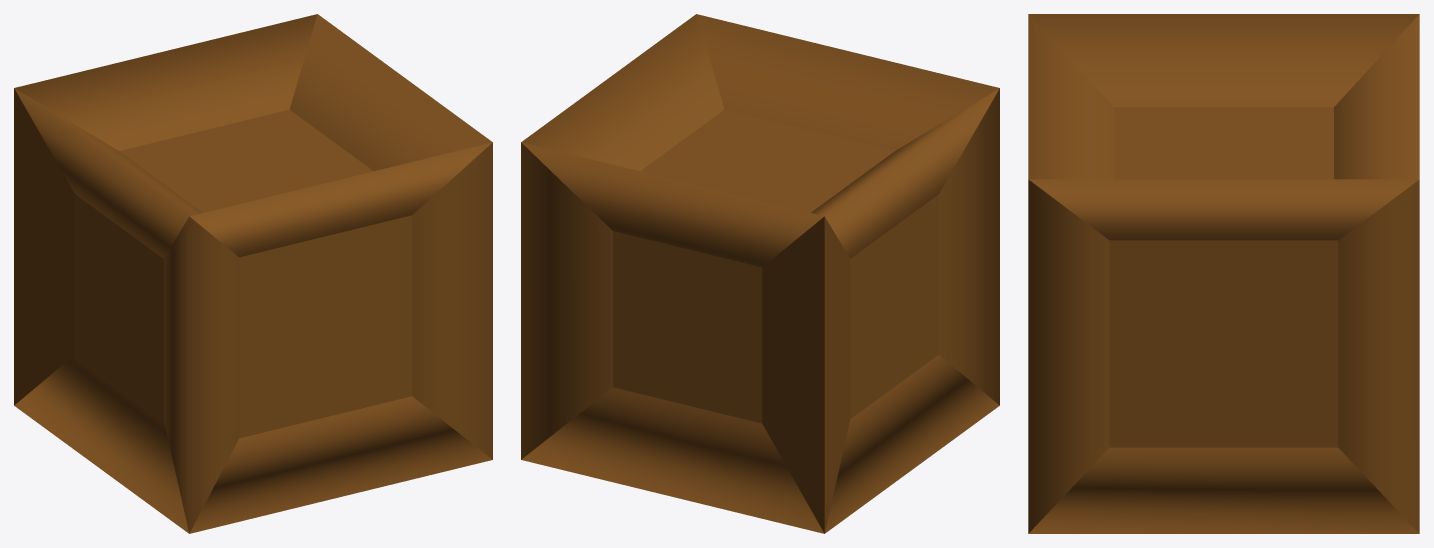
The model's file is Obstacle.dae.
3 renders of one model, left to right at view 1: azimuth 30°, elevation 25°; view 2: azimuth 150°, elevation 25°; view 3: azimuth 270°, elevation 25°, orthographic. The views are drawn at different scales.
Visible parts, largest first — view 1: pCube118; view 2: pCube118; view 3: pCube118.
Boxes of the visible parts, x1,y1,x2,y2 form: pCube118: [14, 14, 492, 533]; pCube118: [521, 14, 999, 533]; pCube118: [1028, 14, 1419, 533].
Bounding box in the file's own units: 1.81 × 1.81 × 1.81.
Materials: 1 (1 with a texture image).
